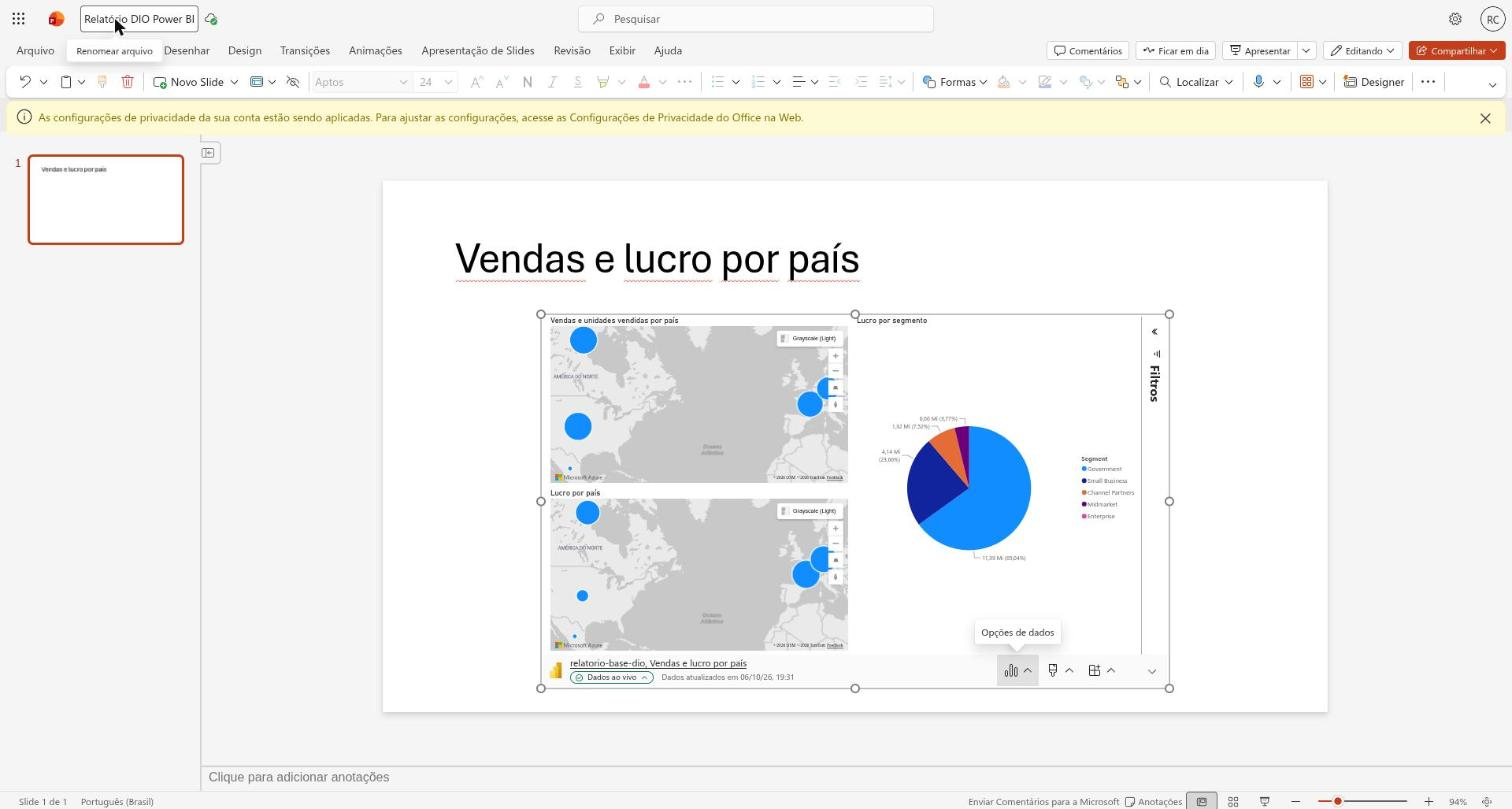

What the dashboard file says about the page in this screenshot:
{"tool":"powerbi","page":{"name":"Vendas e lucro por país","canvas":[1280,720],"ordinal":2},"visuals":[{"type":"azureMap","title":"Vendas e unidades vendidas por país","fields":{"Category":["financials.Country"],"Size":["Sum(financials. Sales)"]},"box":[9.7,0,646.6,360.2],"z":0},{"type":"azureMap","title":"Lucro por país","fields":{"Category":["financials.Country"],"Size":["Sum(financials.Profit)"]},"box":[10,370,647,350],"z":1},{"type":"pieChart","title":"Lucro por segmento","fields":{"Category":["financials.Segment"],"Y":["Sum(financials.Profit)"]},"box":[666.8,0,613.2,719.5],"z":2}]}

Visuals, with their boxes on the page's 1280x720 design canvas (x1, y1, x2, y2). These are canvas units, not pixel positions in the 1512x809 screenshot, which may show the page scaled, cropped or inside an application window:
"Vendas e unidades vendidas por país" azureMap: left=10, top=0, right=656, bottom=360
"Lucro por país" azureMap: left=10, top=370, right=657, bottom=720
"Lucro por segmento" pieChart: left=667, top=0, right=1280, bottom=720
